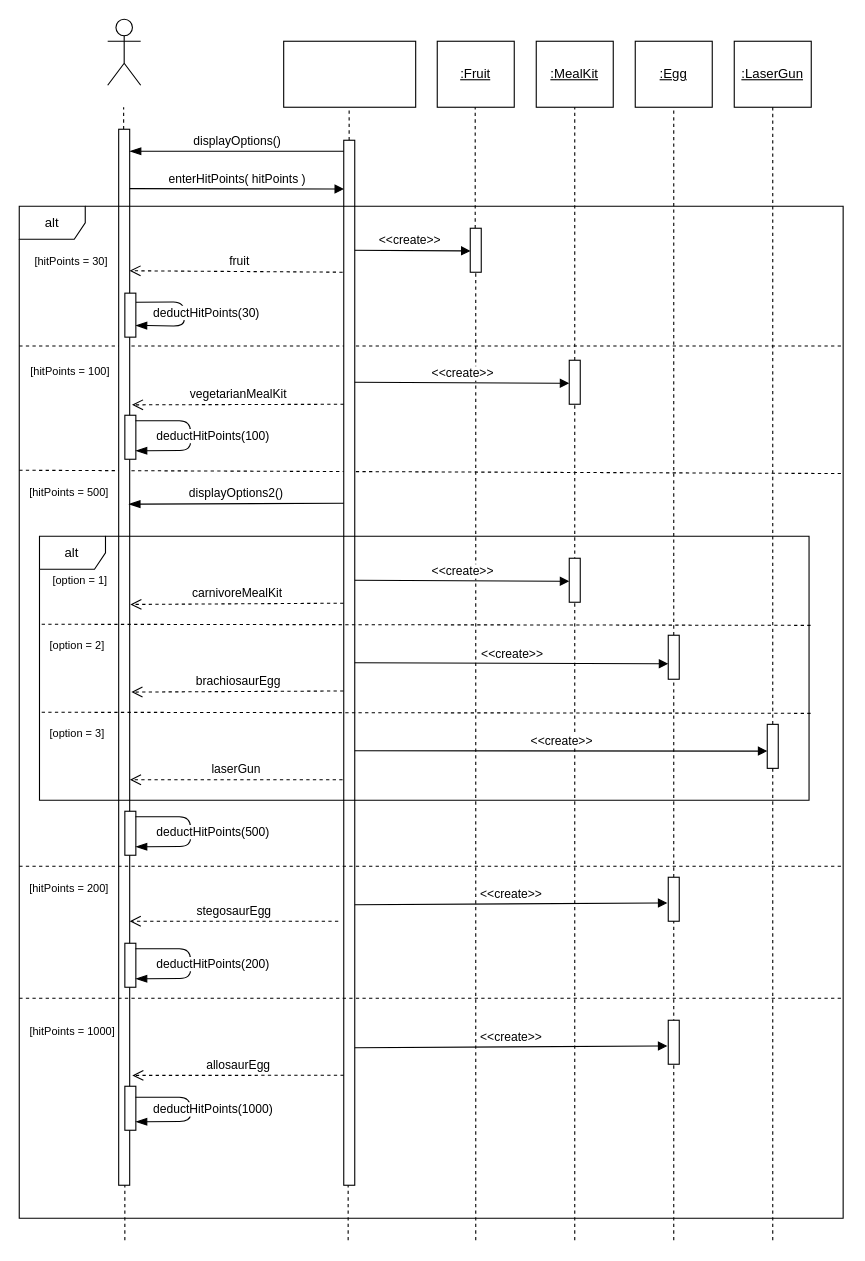
Some shapes in this 865 by 1261 pixel diagram are drawn without their labels. The shapes that lost their labels are listed below. From the top down, each one's centre as x and y in pixels, then its label:
point 124,51: Player
point 349,73: : VendingMachine
